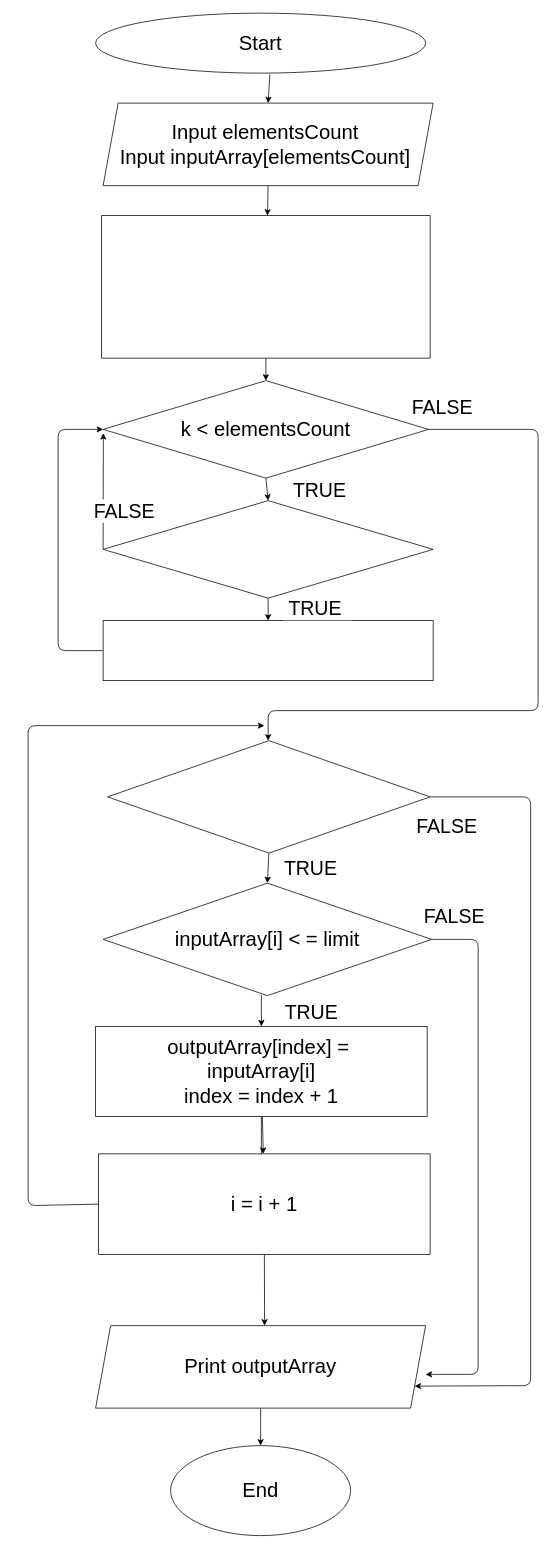
Some shapes in this 557 by 1549 pixel diagram are drawn without their labels. Here are the shapes that lost their labels. From the top down, the box of each, then its label:
(101, 215, 430, 358): newLenght = 0 k = 0 i = 0 index = 0 limit = 3 outputArray[newLenght]
(102, 500, 433, 598): InputArray[k] < = limit
(102, 620, 433, 681): newLenght = newLenght + 1 k = k + 1
(107, 740, 430, 853): i < elementsCount
